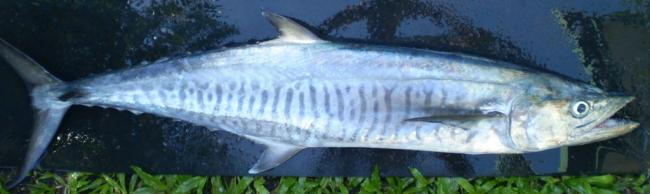fish: (1, 11, 641, 188)
